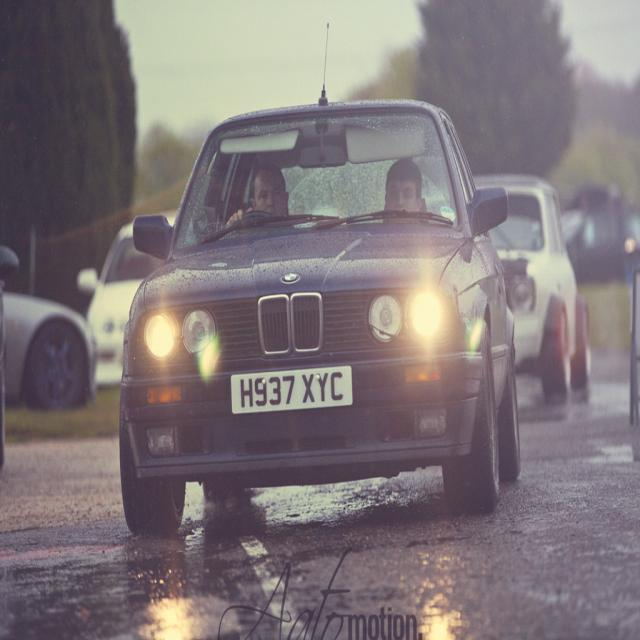car: (118, 19, 522, 529)
